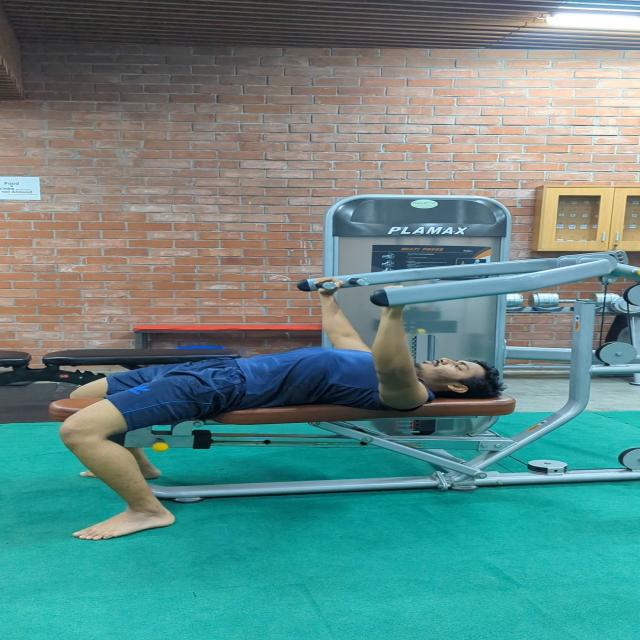Normal_BrenchPress: (56, 265, 520, 559)
